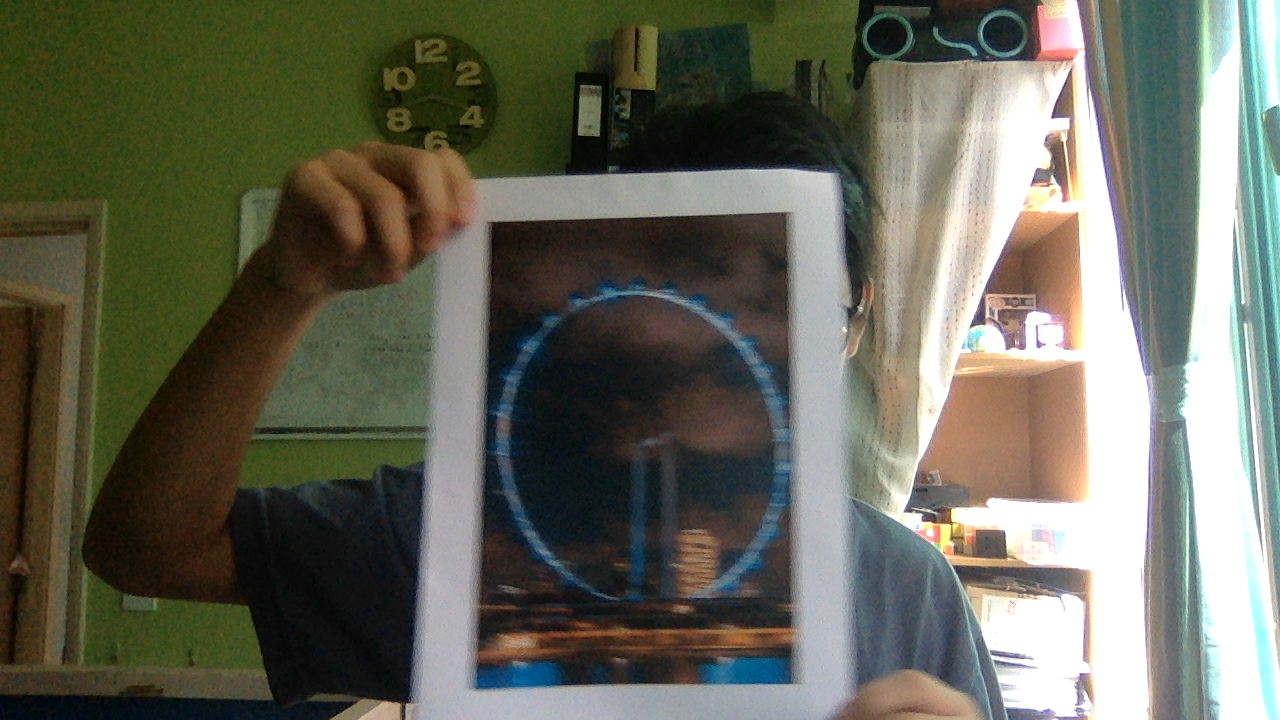Flyer: (494, 220, 798, 689)
